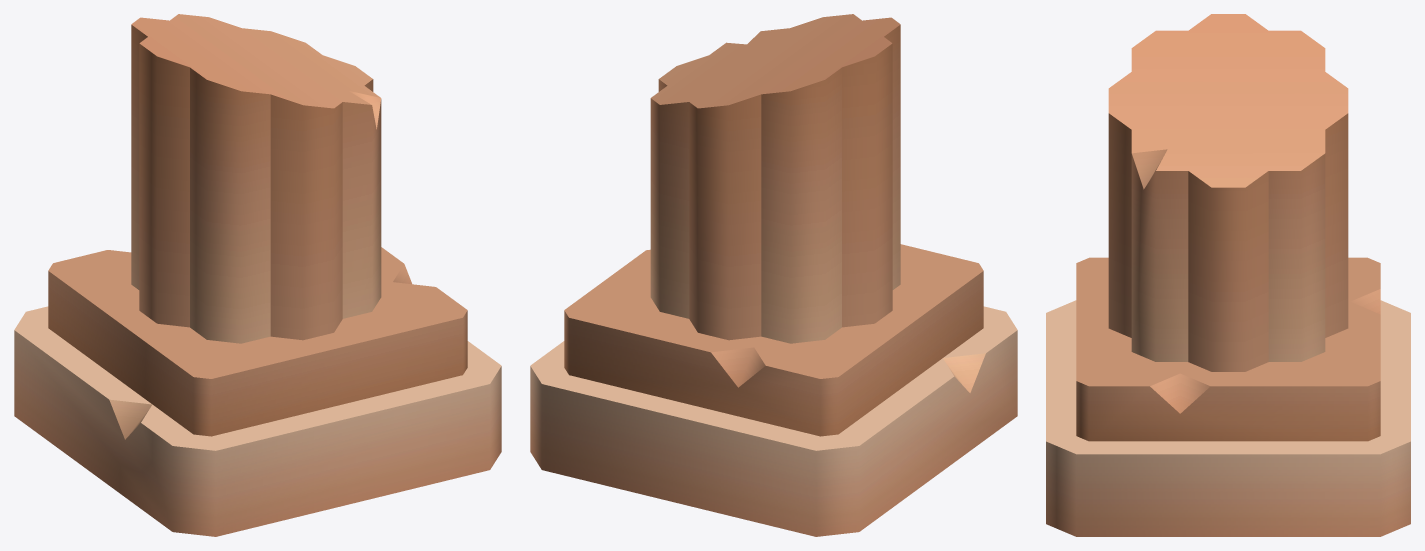
File: k-mini-arena-column-damaged.glb
The picture shows the model from 3 angles, left to right: view 1: azimuth 30°, elevation 25°; view 2: azimuth 150°, elevation 25°; view 3: azimuth 270°, elevation 25°; orthographic projection. The views are drawn at different scales.
Visible parts, largest first — view 1: column-damaged; view 2: column-damaged; view 3: column-damaged.
Part boxes in pixels (left/top/right/bottom): column-damaged: left=14, top=14, right=501, bottom=536; column-damaged: left=530, top=14, right=1017, bottom=536; column-damaged: left=1046, top=14, right=1410, bottom=536.
Bounding box in the file's own units: 0.6 × 0.7157 × 0.6.
Materials: 1 (1 with a texture image).
